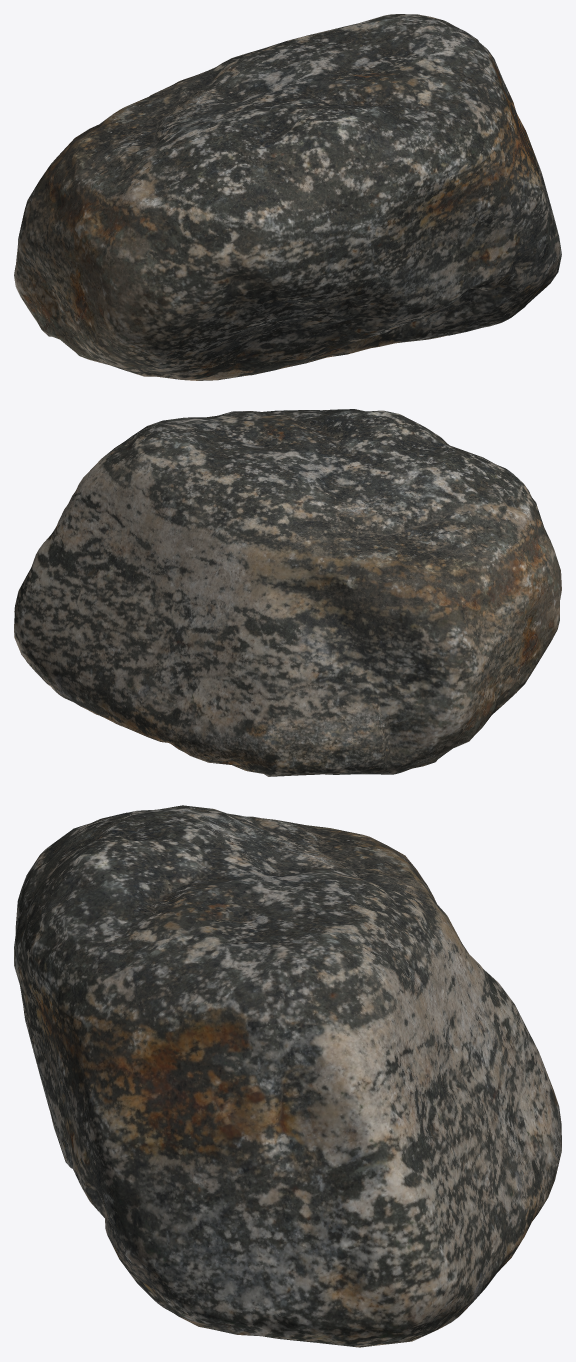
Rendered from SM_whhlfip_tier_2.gltf.
3 views of the same model, one above another, from view 1: azimuth 30°, elevation 25°; view 2: azimuth 150°, elevation 25°; view 3: azimuth 270°, elevation 25° (orthographic). The views are drawn at different scales.
Parts seen in each view (by area): view 1: whhlfip_LOD2_TIER2_000; view 2: whhlfip_LOD2_TIER2_000; view 3: whhlfip_LOD2_TIER2_000.
Boxes of the visible parts, left/top/right/bottom form: whhlfip_LOD2_TIER2_000: left=14, top=14, right=561, bottom=380; whhlfip_LOD2_TIER2_000: left=14, top=409, right=561, bottom=776; whhlfip_LOD2_TIER2_000: left=14, top=805, right=561, bottom=1347.
Bounding box in the file's own units: 0.1662 × 0.0876 × 0.124.
1 material, 1 textured.
